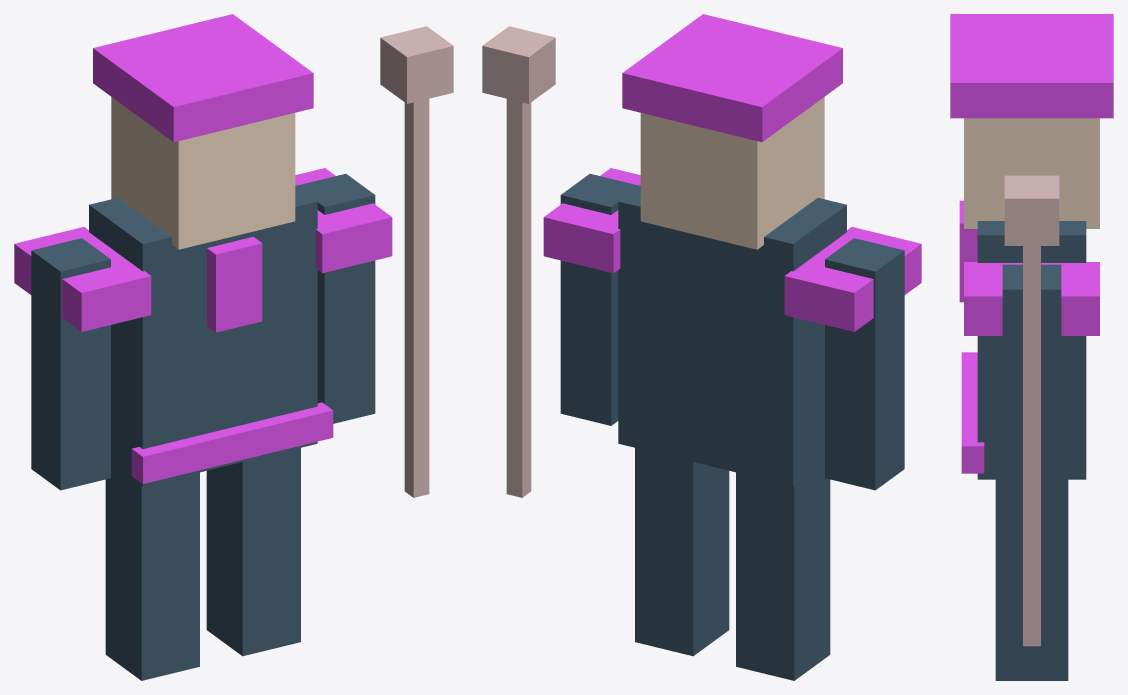
File: 02_lyric_runeclasp_oracle_under_freight.glb
The picture shows the model from 3 angles, left to right: view 1: azimuth 30°, elevation 25°; view 2: azimuth 150°, elevation 25°; view 3: azimuth 270°, elevation 25°; orthographic projection.
Parts seen in each view (by area): view 1: Lyric Runeclasp, Oracle under Freight; view 2: Lyric Runeclasp, Oracle under Freight; view 3: Lyric Runeclasp, Oracle under Freight.
Boxes of the visible parts, x1,y1,x2,y2 form: Lyric Runeclasp, Oracle under Freight: (14, 14, 453, 680); Lyric Runeclasp, Oracle under Freight: (482, 14, 921, 680); Lyric Runeclasp, Oracle under Freight: (950, 14, 1113, 680).
Bounding box in the file's own units: 1.1 × 1.57 × 0.391.
